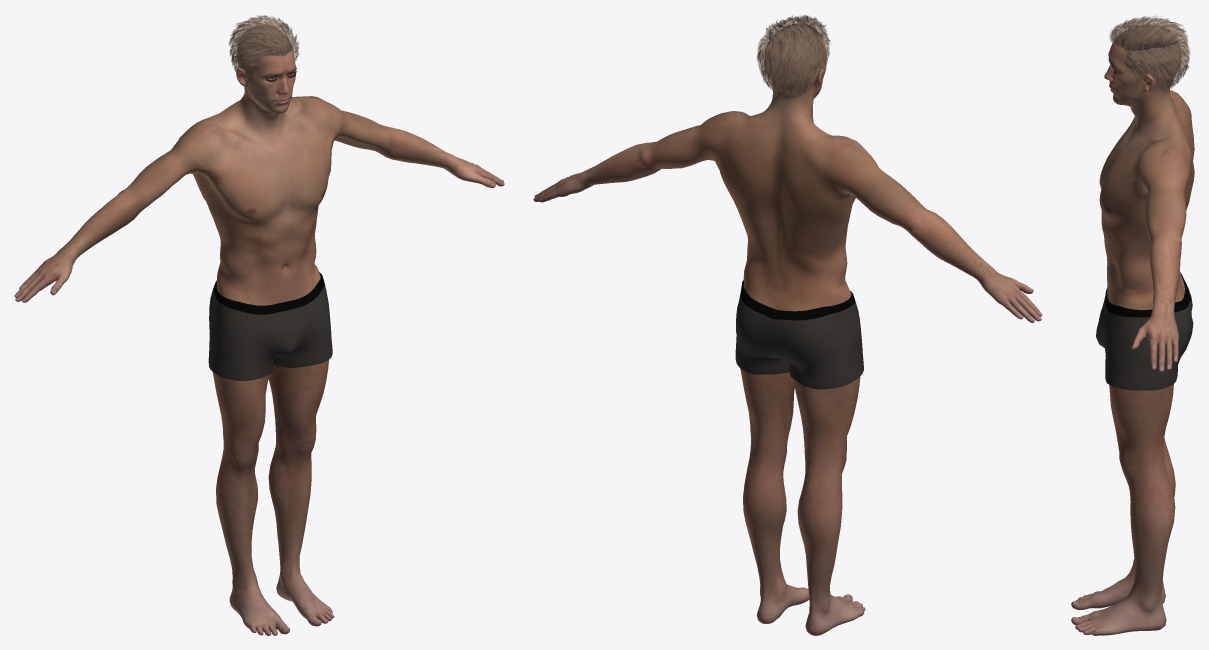
File: body-male.glb
3 renders of one model, left to right at view 1: azimuth 30°, elevation 25°; view 2: azimuth 150°, elevation 25°; view 3: azimuth 270°, elevation 25°, orthographic. The views are drawn at different scales.
Parts seen in each view (by area): view 1: Object_11, Object_9, Object_10, Object_32, Object_8, Object_34; view 2: Object_11, Object_9, Object_10, Object_32, Object_34, Object_8; view 3: Object_11, Object_10, Object_9, Object_8, Object_32, Object_34.
Part boxes in pixels (left/top/right/bottom): Object_11: left=212, top=360, right=334, bottom=635; Object_9: left=193, top=132, right=331, bottom=305; Object_10: left=14, top=96, right=504, bottom=302; Object_32: left=208, top=272, right=332, bottom=380; Object_8: left=220, top=25, right=305, bottom=154; Object_34: left=229, top=15, right=299, bottom=80; Object_11: left=740, top=368, right=865, bottom=635; Object_9: left=717, top=119, right=855, bottom=311; Object_10: left=534, top=111, right=1041, bottom=322; Object_32: left=735, top=280, right=863, bottom=389; Object_34: left=756, top=15, right=830, bottom=96; Object_8: left=747, top=23, right=826, bottom=136; Object_11: left=1071, top=384, right=1175, bottom=635; Object_10: left=1125, top=90, right=1192, bottom=372; Object_9: left=1099, top=100, right=1194, bottom=310; Object_8: left=1104, top=25, right=1181, bottom=153; Object_32: left=1096, top=272, right=1193, bottom=390; Object_34: left=1109, top=16, right=1190, bottom=89.
Size of the model in its own units: 0.00016 by 0.000183 by 3.42e-05.
Materials: 22 (22 with a texture image).
